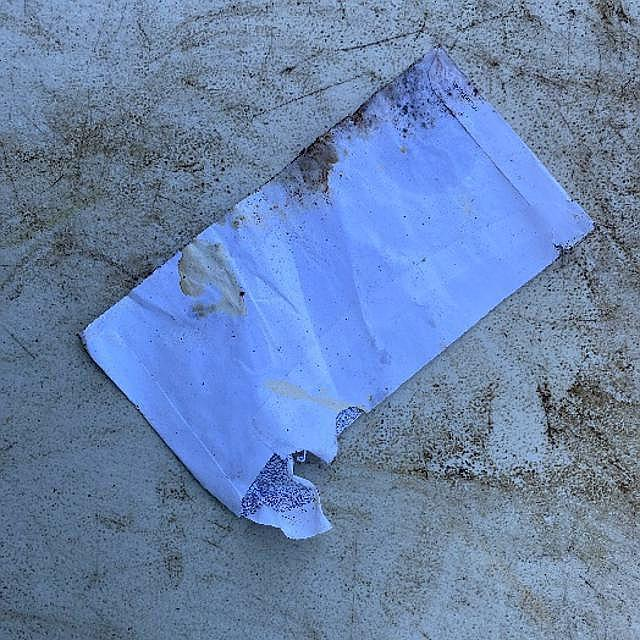Biodegradable: (75, 42, 606, 529)
